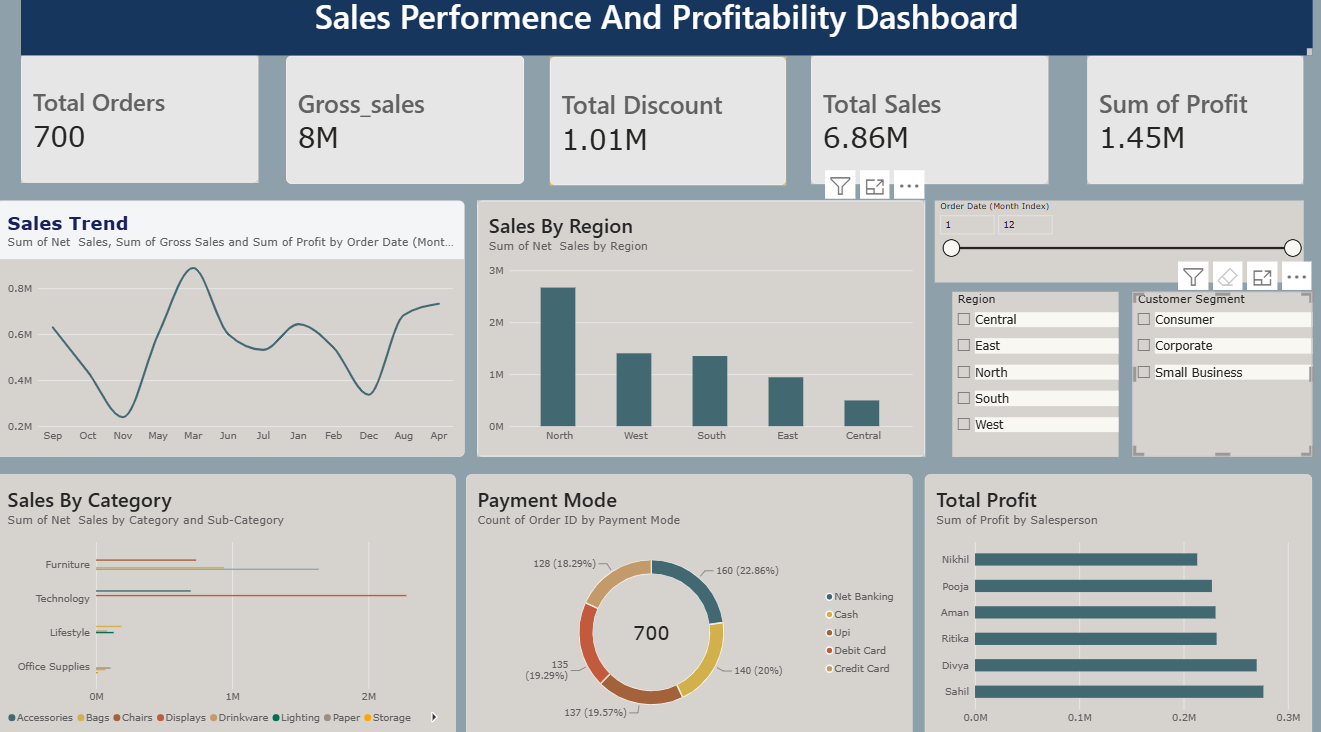

Layout of this report page (visuals, bound fields, positions):
{"tool":"powerbi","page":{"name":"Page 1","canvas":[1920,1080],"ordinal":0},"visuals":[{"type":"cardVisual","fields":{"Data":["Cleaned_Data.Total Order"]},"box":[36.2,88.7,343.8,186.4],"z":0},{"type":"cardVisual","fields":{"Data":["Cleaned_Data.Gross_sales"]},"box":[419.8,90.5,345.6,186.4],"z":1000},{"type":"cardVisual","fields":{"Data":["Cleaned_Data.Total Discount"]},"box":[801.7,92.3,342,186.4],"z":2000},{"type":"cardVisual","fields":{"Data":["Cleaned_Data.Total Sales"]},"box":[1179.9,90.5,343.8,186.4],"z":3000},{"type":"cardVisual","fields":{"Data":["Sum(Cleaned_Data.Profit)"]},"box":[1579.8,90.5,313.1,186.4],"z":4000},{"type":"lineChart","title":"Sales Trend","fields":{"Category":["Cleaned_Data.Order Date (Month)"],"Y":["Sum(Cleaned_Data.Net  Sales)"]},"box":[0,300.4,678.6,371],"z":5000},{"type":"columnChart","title":"Sales By Region","fields":{"Category":["Cleaned_Data.Region"],"Y":["Sum(Cleaned_Data.Net  Sales)"]},"box":[696.7,300.4,647.9,371],"z":6000},{"type":"clusteredBarChart","title":"Sales By Category","fields":{"Category":["Cleaned_Data.Category"],"Series":["Cleaned_Data.Sub-Category"],"Y":["Sum(Cleaned_Data.Net  Sales)"]},"box":[0,696.7,666,383.6],"z":7000},{"type":"donutChart","title":"Payment Mode","fields":{"Category":["Cleaned_Data.Payment Mode"],"Y":["Count(Cleaned_Data.Order ID)"]},"box":[680.4,696.7,646,383.6],"z":8000},{"type":"clusteredBarChart","title":"Total Profit","fields":{"Category":["Cleaned_Data.Salesperson"],"Y":["Sum(Cleaned_Data.Profit)"]},"box":[1344.6,696.7,561,383.6],"z":9000},{"type":"slicer","fields":{"Values":["Cleaned_Data.Region"]},"box":[1384.4,432.5,240.7,238.9],"z":10000},{"type":"slicer","fields":{"Values":["Cleaned_Data.Customer Segment"]},"box":[1645,432.5,260.6,238.9],"z":11000},{"type":"slicer","fields":{"Values":["Cleaned_Data.Order Date (Month Index)"]},"box":[1359.1,300.4,533.8,117.6],"z":12000},{"type":"textbox","title":"Sales Performence And Profitability Dashboard","box":[36.2,0,1869.4,90.5],"z":13000}]}

Visuals, with their boxes in screenshot pixels (x1, y1, x2, y2), scaled from the page's 1920x1080 canvas onto the 1321x732 screenshot:
cardVisual - Cleaned_Data.Total Order: box(25, 60, 261, 186)
cardVisual - Cleaned_Data.Gross_sales: box(289, 61, 527, 188)
cardVisual - Cleaned_Data.Total Discount: box(552, 63, 787, 189)
cardVisual - Cleaned_Data.Total Sales: box(812, 61, 1048, 188)
cardVisual - Sum(Cleaned_Data.Profit): box(1087, 61, 1302, 188)
"Sales Trend" lineChart: box(0, 204, 467, 455)
"Sales By Region" columnChart: box(479, 204, 925, 455)
"Sales By Category" clusteredBarChart: box(0, 472, 458, 731)
"Payment Mode" donutChart: box(468, 472, 913, 731)
"Total Profit" clusteredBarChart: box(925, 472, 1311, 731)
slicer - Cleaned_Data.Region: box(952, 293, 1118, 455)
slicer - Cleaned_Data.Customer Segment: box(1132, 293, 1311, 455)
slicer - Cleaned_Data.Order Date (Month Index): box(935, 204, 1302, 283)
"Sales Performence And Profitability Dashboard" textbox: box(25, 0, 1311, 61)
